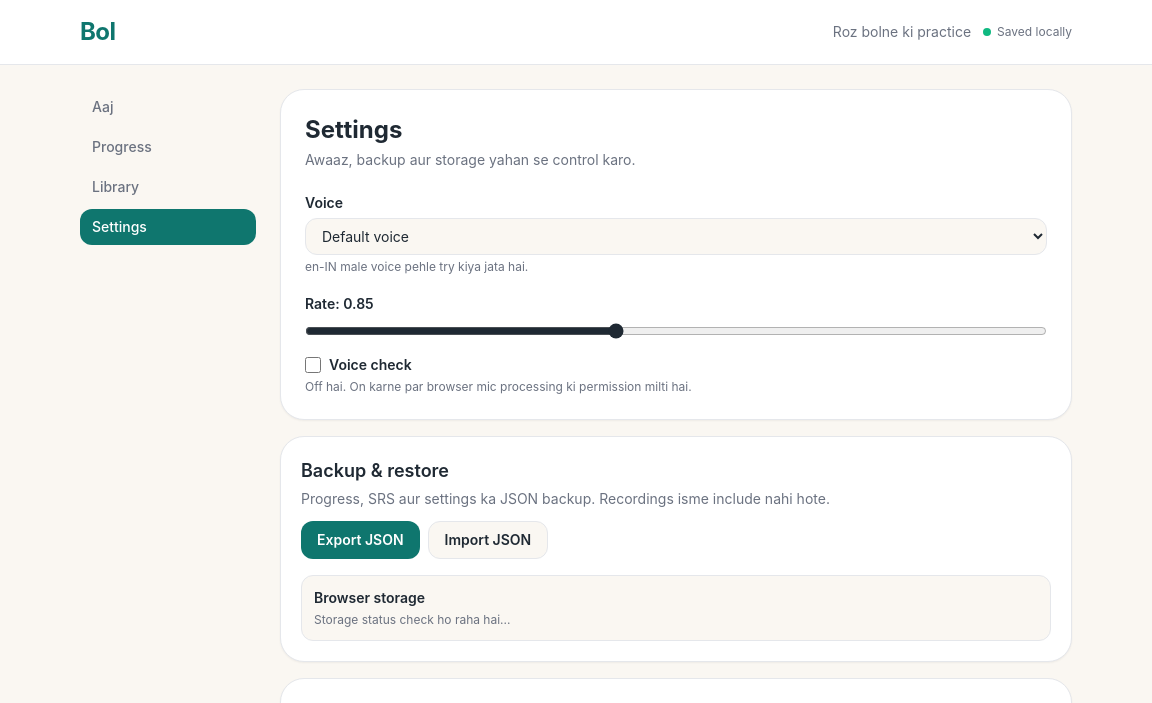
exports progress as a JSON download
Click the button "Export JSON" at (360, 540), box left=301, top=521, right=420, bottom=559
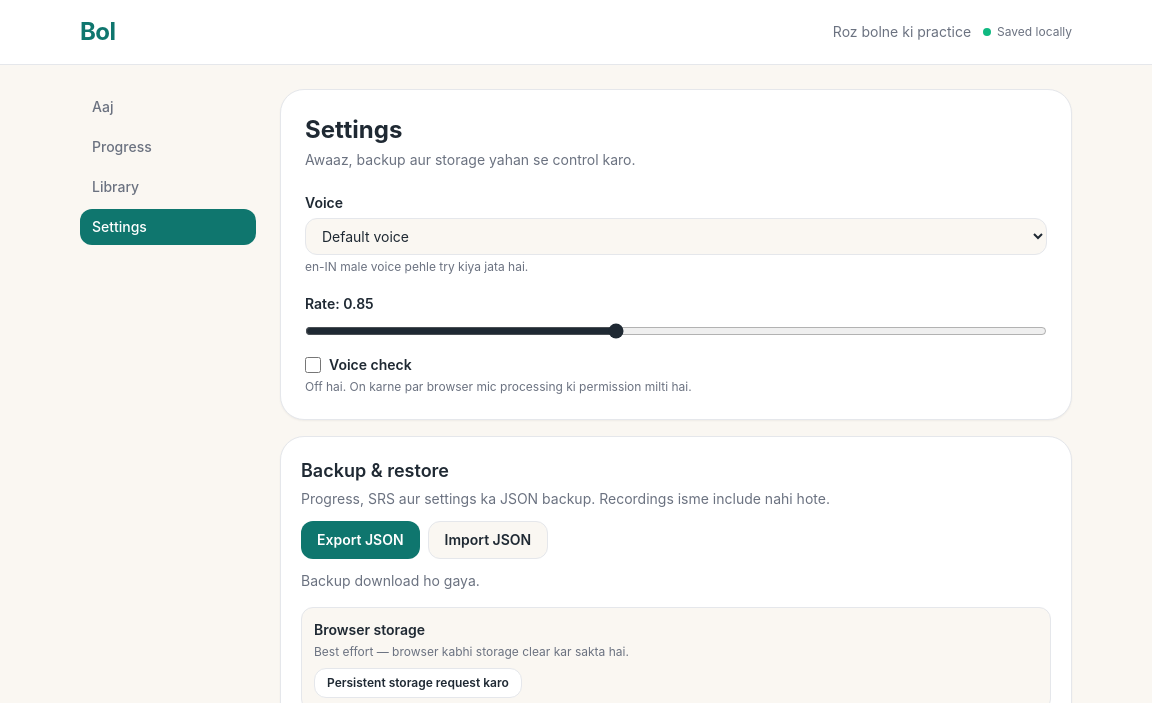
Now the message reads "Backup download ho gaya.", box left=301, top=572, right=480, bottom=589
